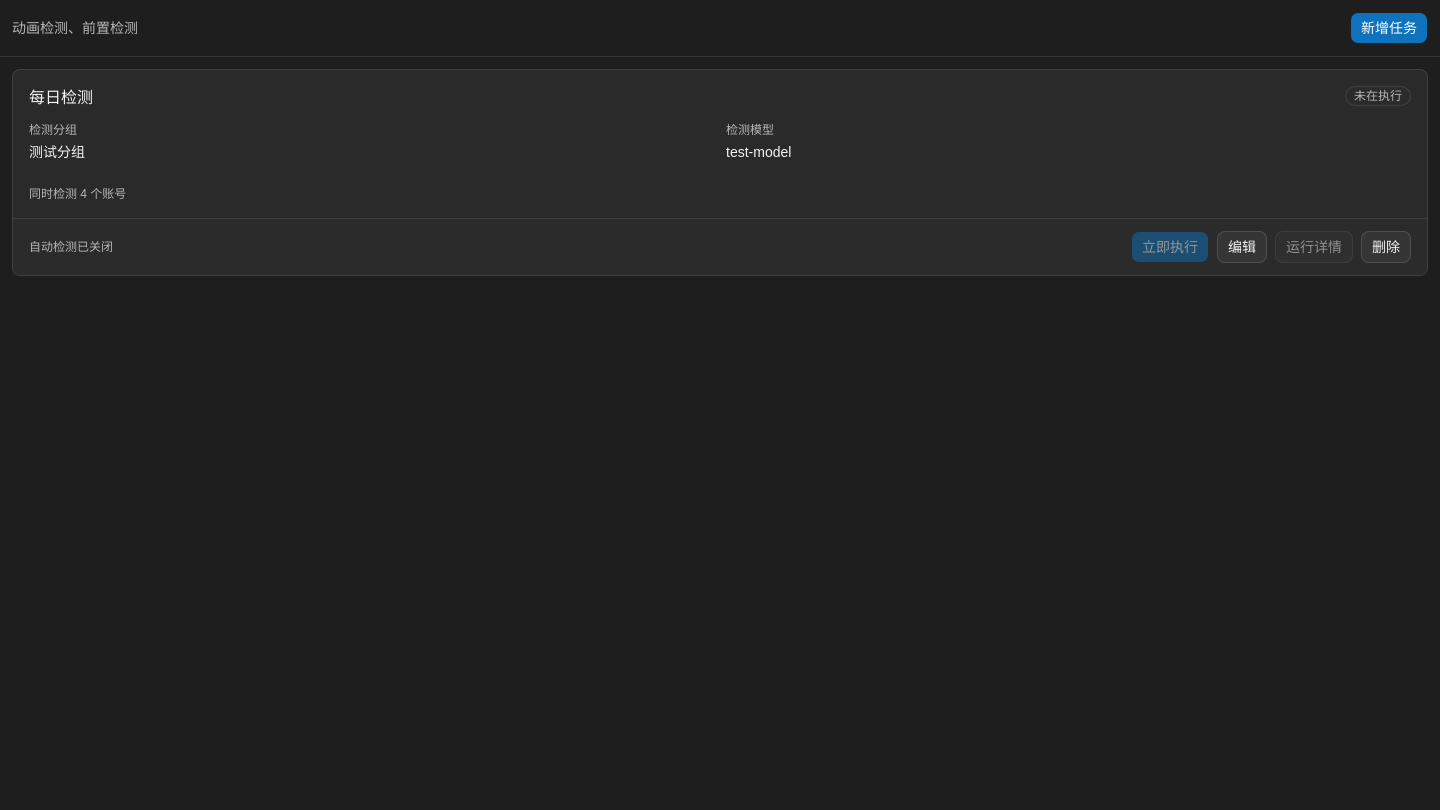
Test: 旧纯终端任务禁用立即执行并允许编辑选择有效阶段
The image size is (1440, 810).
Check: the button "立即执行" is disabled, box [1131,231,1209,263]
Click the button "编辑" at (1242, 247), box [1217,231,1267,263]
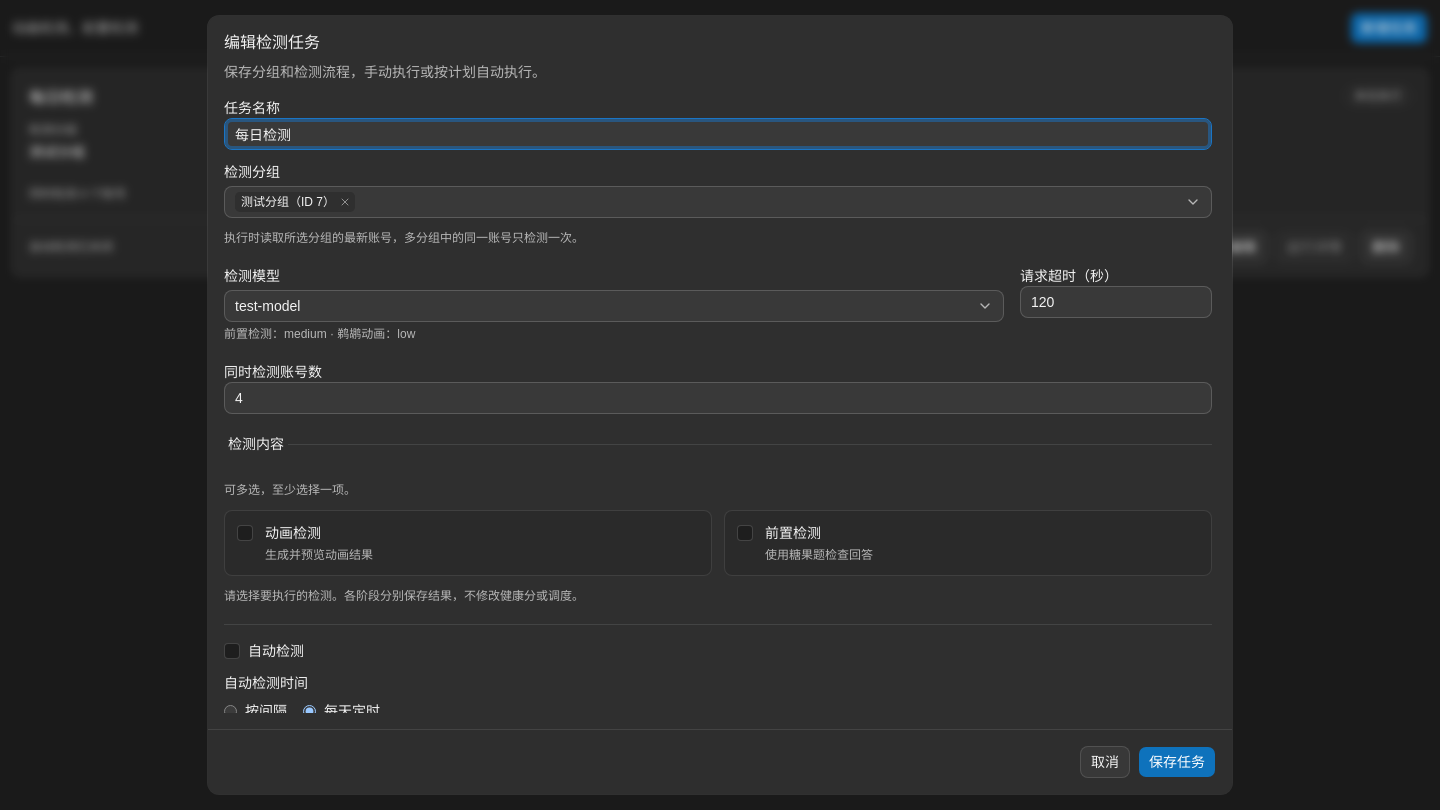
Check: the 1st checkbox named "动画检测" is not checked, box [237,525,253,541]
